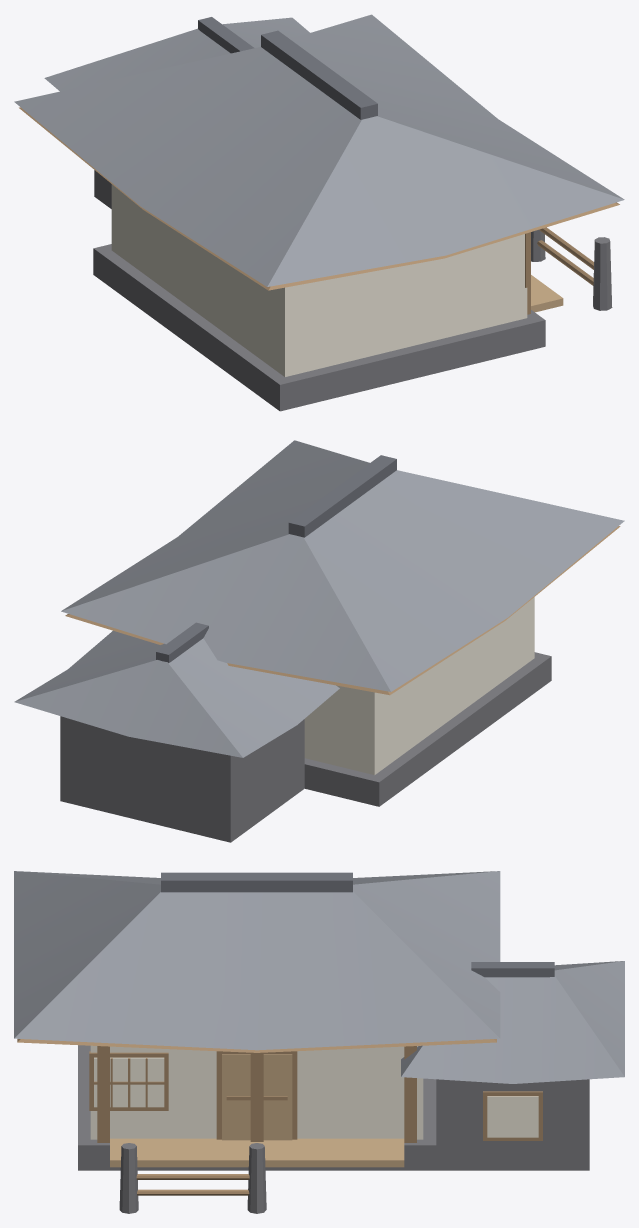
Rendered from JHouse_Tile_B.fbx.
The picture shows the model from 3 angles, top to bottom: view 1: azimuth 30°, elevation 25°; view 2: azimuth 150°, elevation 25°; view 3: azimuth 270°, elevation 25°; orthographic projection. The views are drawn at different scales.
Parts seen in each view (by area): view 1: JHouse_Tile_B; view 2: JHouse_Tile_B; view 3: JHouse_Tile_B.
Part boxes in pixels (x1=…): JHouse_Tile_B: x1=14, y1=14, x2=624, y2=411; JHouse_Tile_B: x1=14, y1=440, x2=624, y2=842; JHouse_Tile_B: x1=14, y1=871, x2=624, y2=1213.
Size of the model in its own units: 7 by 4 by 9.55.
